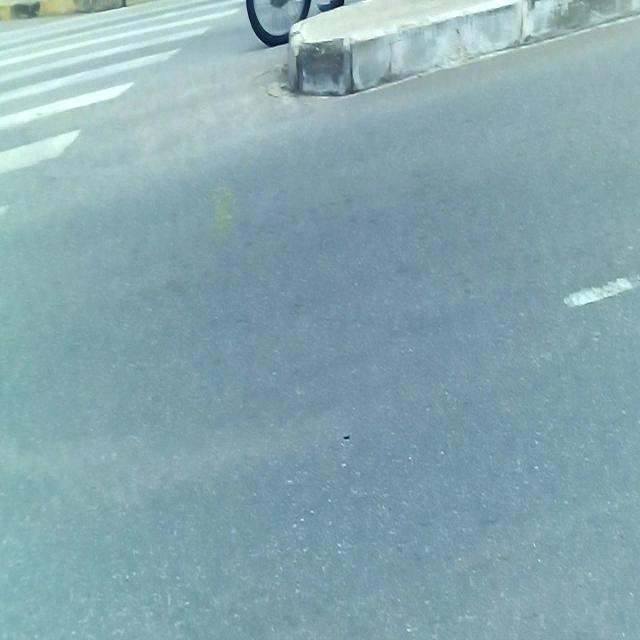crosswalk: (0, 0, 246, 228)
